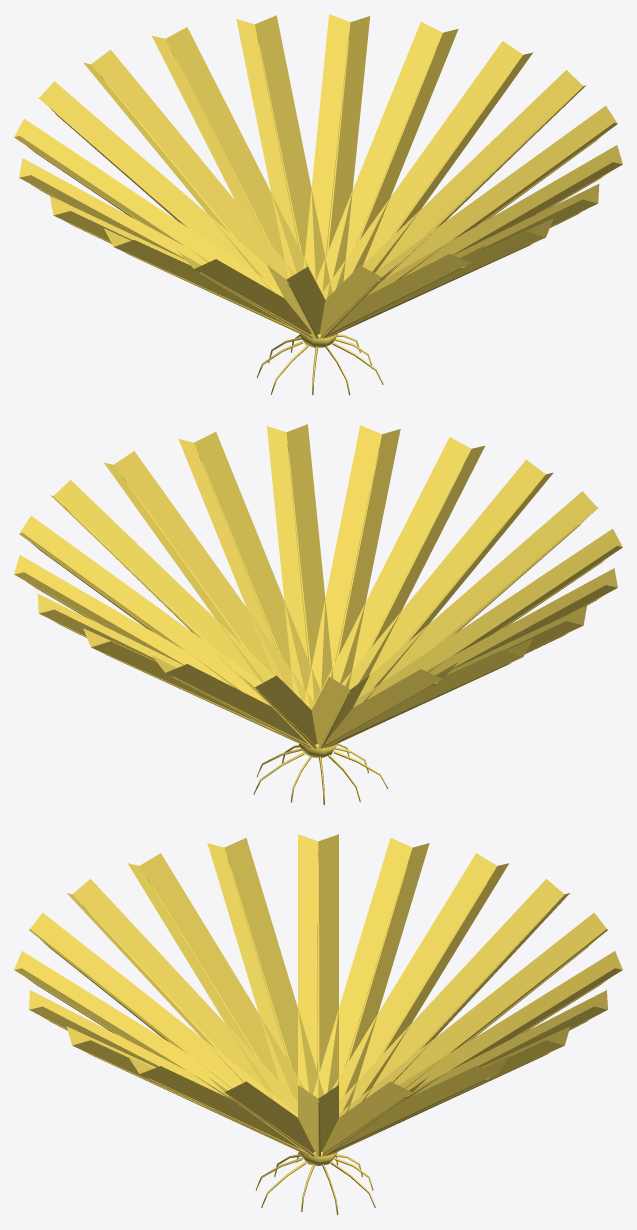
The model's file is crinoid_feather_star_twenty_game.glb.
3 renders of one model, top to bottom at view 1: azimuth 30°, elevation 25°; view 2: azimuth 150°, elevation 25°; view 3: azimuth 270°, elevation 25°, orthographic.
Parts seen in each view (by area): view 1: crinoid_feather_star_twenty_game; view 2: crinoid_feather_star_twenty_game; view 3: crinoid_feather_star_twenty_game.
Part boxes in pixels (x1=…): crinoid_feather_star_twenty_game: x1=14, y1=14, x2=622, y2=395; crinoid_feather_star_twenty_game: x1=14, y1=424, x2=622, y2=805; crinoid_feather_star_twenty_game: x1=14, y1=834, x2=622, y2=1215.
Bounding box in the file's own units: 0.2553 × 0.1072 × 0.2553.
